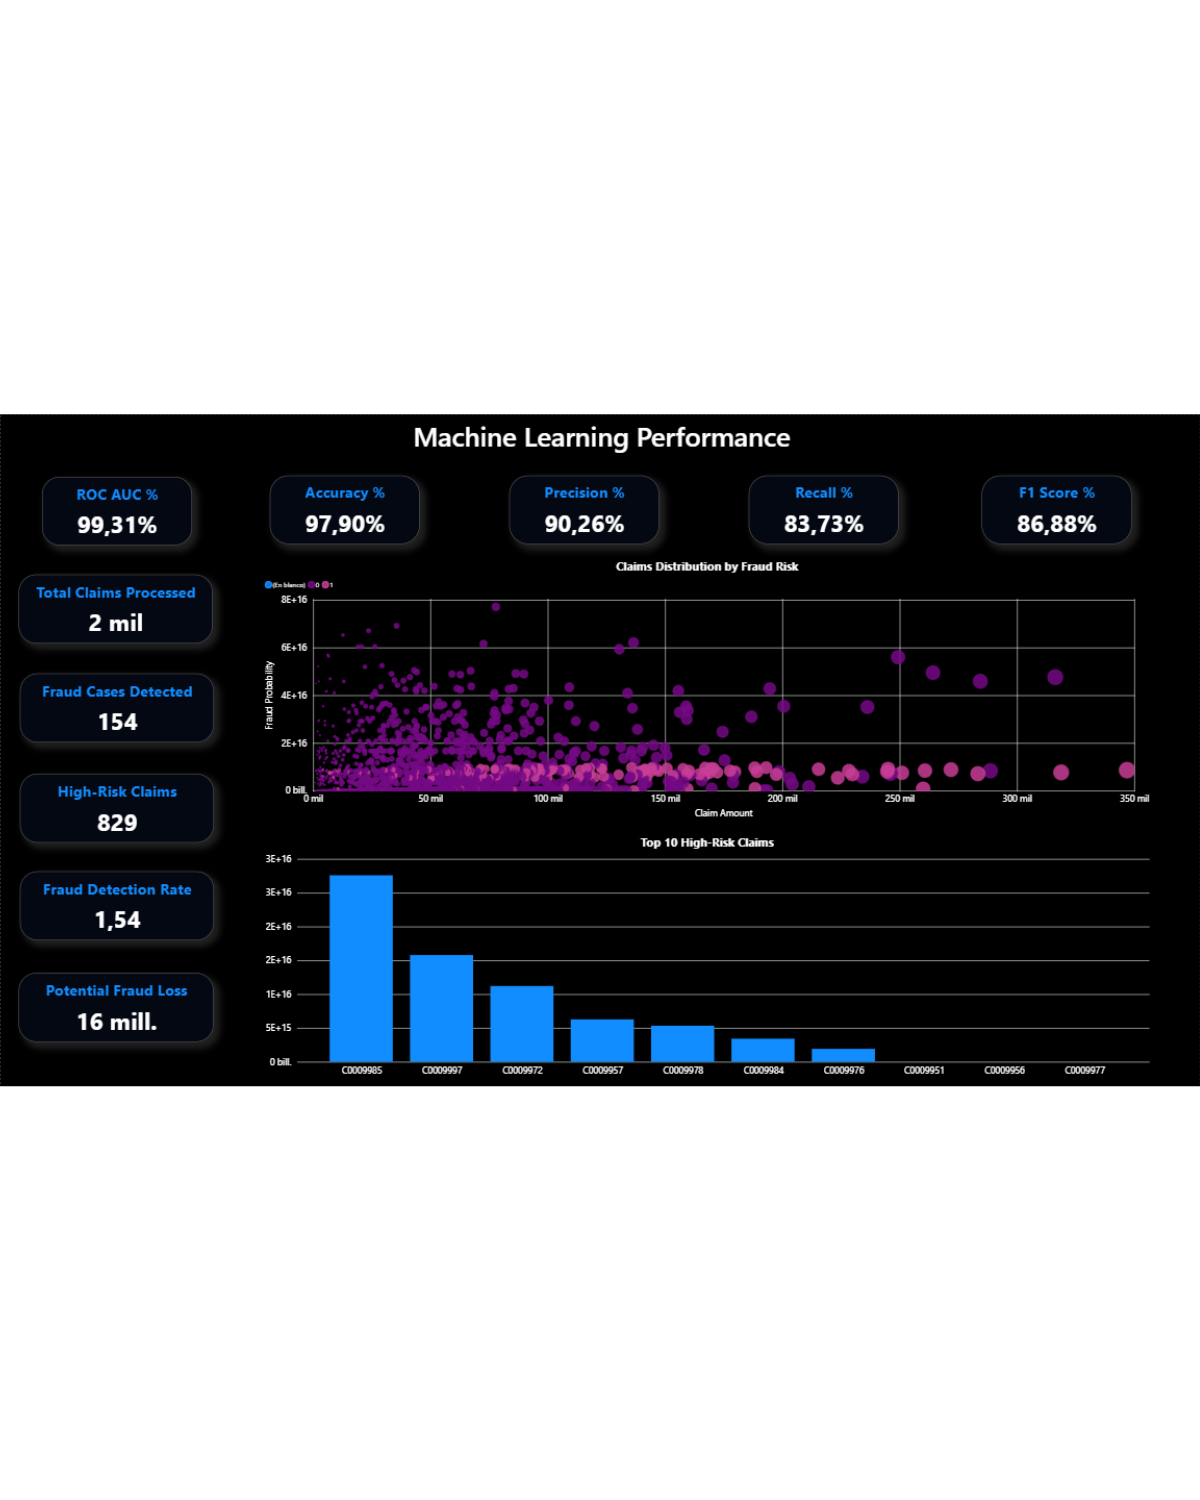

What the dashboard file says about the page in this screenshot:
{"tool":"powerbi","page":{"name":"Machine Learning Performance","canvas":[1920,1080],"ordinal":4},"visuals":[{"type":"textbox","box":[4.2,0,1916.7,75],"z":0},{"type":"cardVisual","fields":{"Data":["model_metrics.ROC AUC %"]},"box":[67.2,100.8,240.4,109.6],"z":1000},{"type":"cardVisual","fields":{"Data":["model_metrics.Accuracy %"]},"box":[431,98.9,240.4,109.6],"z":2000},{"type":"cardVisual","fields":{"Data":["model_metrics.Recall %"]},"box":[1197.9,98.9,240.4,109.6],"z":3000},{"type":"cardVisual","fields":{"Data":["model_metrics.F1 Score %"]},"box":[1571.1,97,240.4,109.6],"z":4000},{"type":"cardVisual","fields":{"Data":["model_metrics.Precision %"]},"box":[813.5,97,240.4,109.6],"z":5000},{"type":"clusteredColumnChart","title":"Top 10 High-Risk Claims","fields":{"Category":["ml_predictions.Claim_ID"],"Y":["Sum(ml_predictions.Fraud_Probability)"]},"box":[418,669.9,1425.6,399.3],"z":6000},{"type":"cardVisual","fields":{"Data":["ml_predictions.Total Claims1"]},"box":[30,256,310,110],"z":7000},{"type":"cardVisual","fields":{"Data":["ml_predictions.Fraud Detected"]},"box":[32,414,310,110],"z":8000},{"type":"cardVisual","fields":{"Data":["ml_predictions.Fraud Detection Rate %"]},"box":[32,732,310,110],"z":9000},{"type":"cardVisual","fields":{"Data":["ml_predictions.High Risk Claims1"]},"box":[32,574,310,110],"z":10000},{"type":"cardVisual","fields":{"Data":["ml_predictions.Potential Fraud Loss"]},"box":[30,894,312,110],"z":11000},{"type":"scatterChart","title":"Claims Distribution by Fraud Risk","fields":{"Category":["ml_predictions.Claim_ID"],"Series":["ml_predictions.Prediction"],"Size":["Sum(healthcare_dashboard.Claim_Amount)"],"X":["Sum(healthcare_dashboard.Claim_Amount)"],"Y":["Sum(ml_predictions.Fraud_Probability)"]},"box":[418,229.5,1425.6,423.6],"z":12000}]}

Visuals, with their boxes on the page's 1920x1080 design canvas (x1, y1, x2, y2). These are canvas units, not pixel positions in the 1200x1500 screenshot, which may show the page scaled, cropped or inside an application window:
textbox: <box>4,0,1921,75</box>
cardVisual - model_metrics.ROC AUC %: <box>67,101,308,210</box>
cardVisual - model_metrics.Accuracy %: <box>431,99,671,208</box>
cardVisual - model_metrics.Recall %: <box>1198,99,1438,208</box>
cardVisual - model_metrics.F1 Score %: <box>1571,97,1812,207</box>
cardVisual - model_metrics.Precision %: <box>814,97,1054,207</box>
"Top 10 High-Risk Claims" clusteredColumnChart: <box>418,670,1844,1069</box>
cardVisual - ml_predictions.Total Claims1: <box>30,256,340,366</box>
cardVisual - ml_predictions.Fraud Detected: <box>32,414,342,524</box>
cardVisual - ml_predictions.Fraud Detection Rate %: <box>32,732,342,842</box>
cardVisual - ml_predictions.High Risk Claims1: <box>32,574,342,684</box>
cardVisual - ml_predictions.Potential Fraud Loss: <box>30,894,342,1004</box>
"Claims Distribution by Fraud Risk" scatterChart: <box>418,230,1844,653</box>
